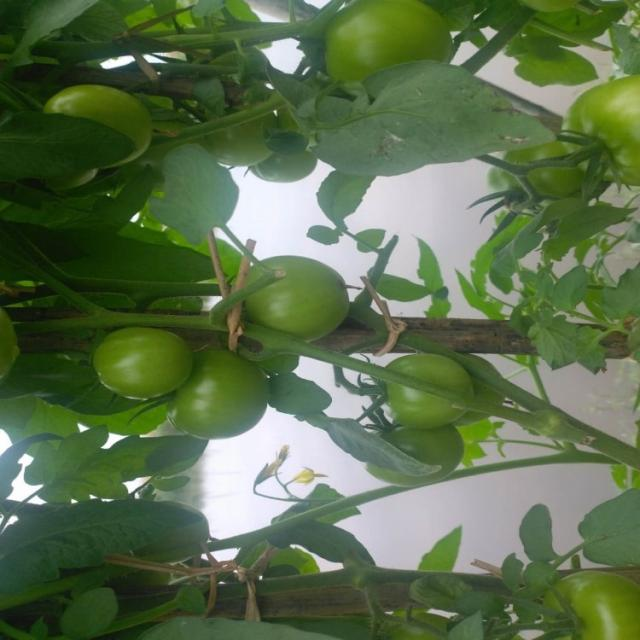tomato: (235, 246, 356, 351), (323, 1, 450, 95), (562, 73, 640, 199), (180, 331, 269, 437), (92, 323, 198, 404), (53, 80, 154, 161), (526, 573, 640, 640), (480, 138, 585, 208), (360, 417, 463, 488), (375, 347, 462, 430), (206, 113, 278, 171), (446, 347, 503, 417), (1, 304, 19, 378)
